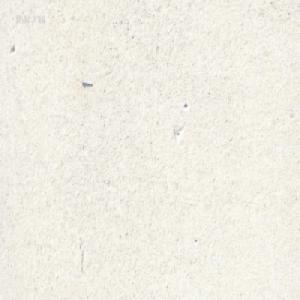Nail: (80, 77, 93, 86)
